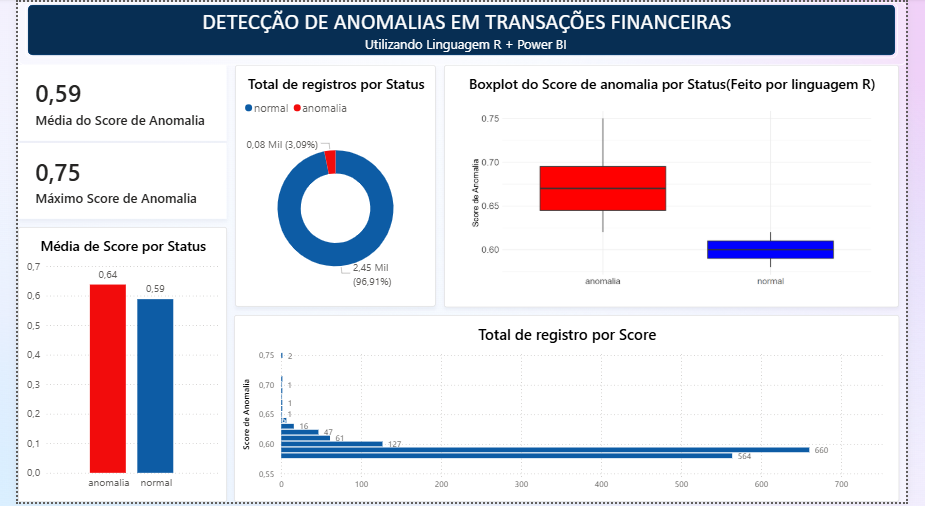

The page's visual inventory and layout, read from the dashboard file:
{"tool":"powerbi","page":{"name":"Página 1","canvas":[1280,720],"ordinal":0},"visuals":[{"type":"donutChart","title":"Total de registros por Status","fields":{"Category":["previsoes_novos_dados.status"],"Y":["CountNonNull(previsoes_novos_dados.anomaly_score)"]},"box":[312.5,90.7,289.4,348.5],"z":0},{"type":"scriptVisual","title":"Boxplot do Score de anomalia por Status(Feito por linguagem R)","fields":{"Values":["previsoes_novos_dados.status","previsoes_novos_dados.anomaly_score"]},"box":[613.4,91.2,655.1,349.2],"z":1000},{"type":"cardVisual","fields":{"Data":["Avg(previsoes_novos_dados.anomaly_score)"]},"box":[0,90.7,301,109.4],"z":2000},{"type":"cardVisual","fields":{"Data":["Max(previsoes_novos_dados.anomaly_score)"]},"box":[0,203,301,109.4],"z":3000},{"type":"barChart","title":"Total de registro por Score","fields":{"Category":["previsoes_novos_dados.anomaly_score"],"Y":["Sum(previsoes_novos_dados.anomaly_score)"]},"box":[311,450.7,957.6,269.3],"z":4000},{"type":"clusteredColumnChart","title":"Média de Score por Status","fields":{"Category":["previsoes_novos_dados.status"],"Y":["Avg(previsoes_novos_dados.anomaly_score)"]},"box":[0,324,301,396],"z":5000},{"type":"shape","box":[10.1,0,1257.1,80.6],"z":6000},{"type":"textbox","box":[0,0,1280.2,90.7],"z":7000}]}

Visuals, with their boxes in screenshot pixels (x1, y1, x2, y2), scaled from the page's 1280x720 canvas onto the 925x506 screenshot:
"Total de registros por Status" donutChart: locate(226, 64, 435, 309)
"Boxplot do Score de anomalia por Status(Feito por linguagem R)" scriptVisual: locate(443, 64, 917, 310)
cardVisual - Avg(previsoes_novos_dados.anomaly_score): locate(0, 64, 218, 141)
cardVisual - Max(previsoes_novos_dados.anomaly_score): locate(0, 143, 218, 220)
"Total de registro por Score" barChart: locate(225, 317, 917, 505)
"Média de Score por Status" clusteredColumnChart: locate(0, 228, 218, 505)
shape: locate(7, 0, 916, 57)
textbox: locate(0, 0, 924, 64)
